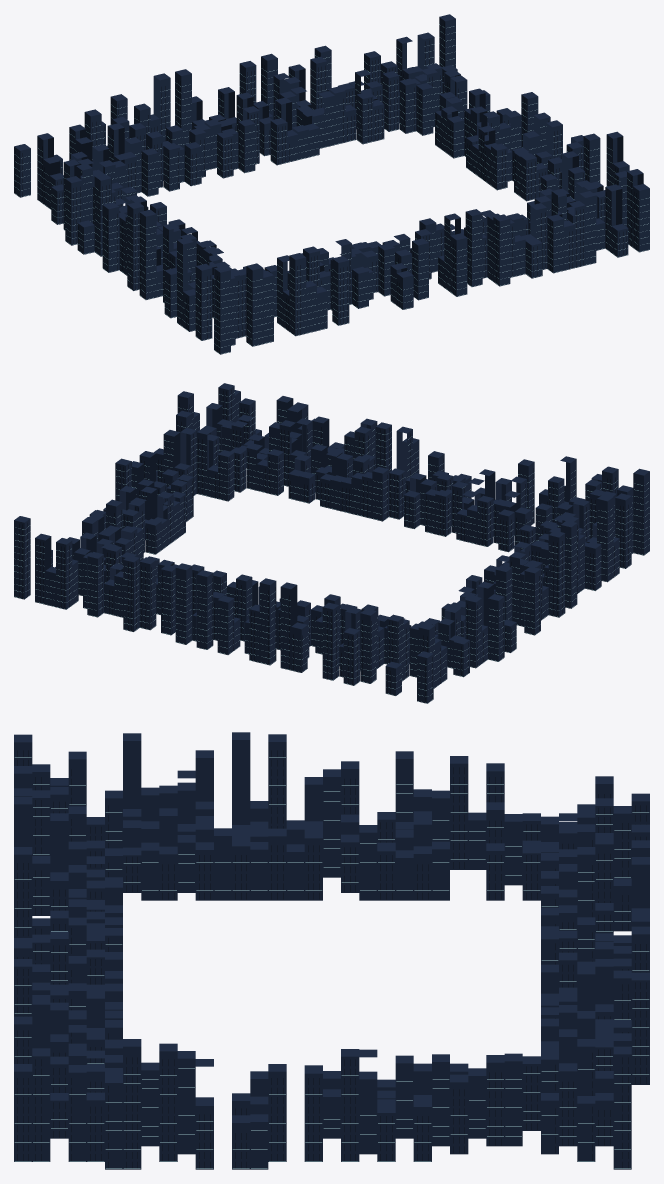
The model's file is cache_sea_shallows_outer.fbx.
The picture shows the model from 3 angles, top to bottom: view 1: azimuth 30°, elevation 25°; view 2: azimuth 150°, elevation 25°; view 3: azimuth 270°, elevation 25°; orthographic projection. The views are drawn at different scales.
Parts seen in each view (by area): view 1: Outer_c34_r6, Outer_c34_r-6, Outer_c31_r-6, Outer_c27_r-6, Outer_c34_r-3, Outer_c10_r-5, Outer_c8_r-6, Outer_c34_r12, Outer_c23_r-6, Outer_c34_r8, Outer_c-5_r-6, Outer_c18_r28 (+61 smaller); view 2: Outer_c34_r8, Outer_c18_r28, Outer_c34_r-6, Outer_c10_r28, Outer_c12_r28, Outer_c-6_r27, Outer_c34_r0, Outer_c24_r28, Outer_c20_r28, Outer_c5_r28, Outer_c27_r27, Outer_c6_r27 (+53 smaller); view 3: Outer_c-6_r0, Outer_c-6_r27, Outer_c-5_r2, Outer_c33_r18, Outer_c-5_r-5, Outer_c-5_r12, Outer_c5_r28, Outer_c-4_r3, Outer_c32_r11, Outer_c-5_r-6, Outer_c-5_r8, Outer_c-5_r-3 (+94 smaller).
Part boxes in pixels (<box>): Outer_c34_r6: <box>139,209,156,299</box>; Outer_c34_r-6: <box>214,265,230,354</box>; Outer_c31_r-6: <box>246,263,263,346</box>; Outer_c27_r-6: <box>289,253,306,336</box>; Outer_c34_r-3: <box>195,263,212,340</box>; Outer_c10_r-5: <box>465,209,482,286</box>; Outer_c8_r-6: <box>493,214,510,286</box>; Outer_c34_r12: <box>102,202,119,272</box>; Outer_c23_r-6: <box>332,256,349,325</box>; Outer_c34_r8: <box>127,202,144,290</box>; Outer_c-5_r-6: <box>633,184,649,252</box>; Outer_c18_r28: <box>175,69,191,148</box>; Outer_c34_r8: <box>548,530,565,617</box>; Outer_c18_r28: <box>259,578,276,665</box>; Outer_c34_r-6: <box>633,468,649,555</box>; Outer_c10_r28: <box>175,563,192,644</box>; Outer_c12_r28: <box>196,570,213,649</box>; Outer_c-6_r27: <box>14,516,30,599</box>; Outer_c34_r0: <box>597,494,613,582</box>; Outer_c24_r28: <box>322,602,338,680</box>; Outer_c20_r28: <box>280,582,297,670</box>; Outer_c5_r28: <box>123,555,139,631</box>; Outer_c27_r27: <box>360,608,376,683</box>; Outer_c6_r27: <box>140,557,156,630</box>; Outer_c-6_r0: <box>123,1039,141,1169</box>; Outer_c-6_r27: <box>613,1046,631,1169</box>; Outer_c-5_r2: <box>159,1043,177,1161</box>; Outer_c33_r18: <box>450,756,468,869</box>; Outer_c-5_r-5: <box>32,1048,50,1161</box>; Outer_c-5_r12: <box>341,1049,359,1161</box>; Outer_c5_r28: <box>631,972,649,1084</box>; Outer_c-4_r3: <box>177,1051,195,1154</box>; Outer_c32_r11: <box>323,769,340,877</box>; Outer_c-5_r-6: <box>14,1064,32,1161</box>; Outer_c-5_r8: <box>268,1064,286,1161</box>; Outer_c-5_r-3: <box>68,1065,86,1161</box>.
Bounding box in the file's own units: 164 × 29.84 × 140.
